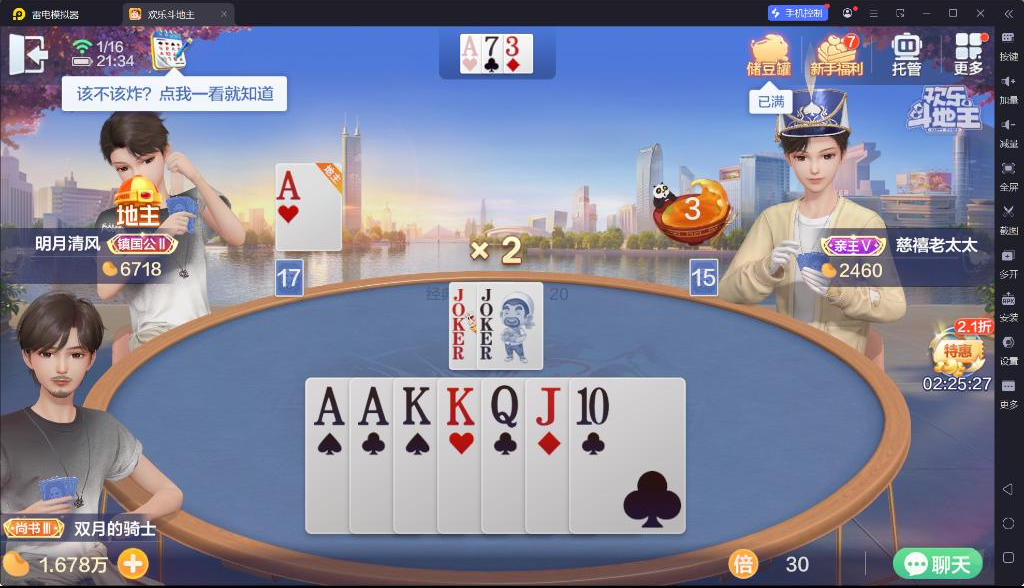A: (313, 383, 348, 429), (357, 383, 391, 427), (276, 169, 304, 201), (461, 34, 479, 58)
J: (531, 384, 561, 428)
JOKER: (449, 286, 469, 334)
K: (442, 383, 478, 427), (399, 383, 433, 427)
Q: (486, 383, 520, 429)
joker: (480, 286, 494, 336)
seven: (484, 35, 501, 57)
ten: (573, 384, 611, 427)
three: (505, 35, 519, 57)
